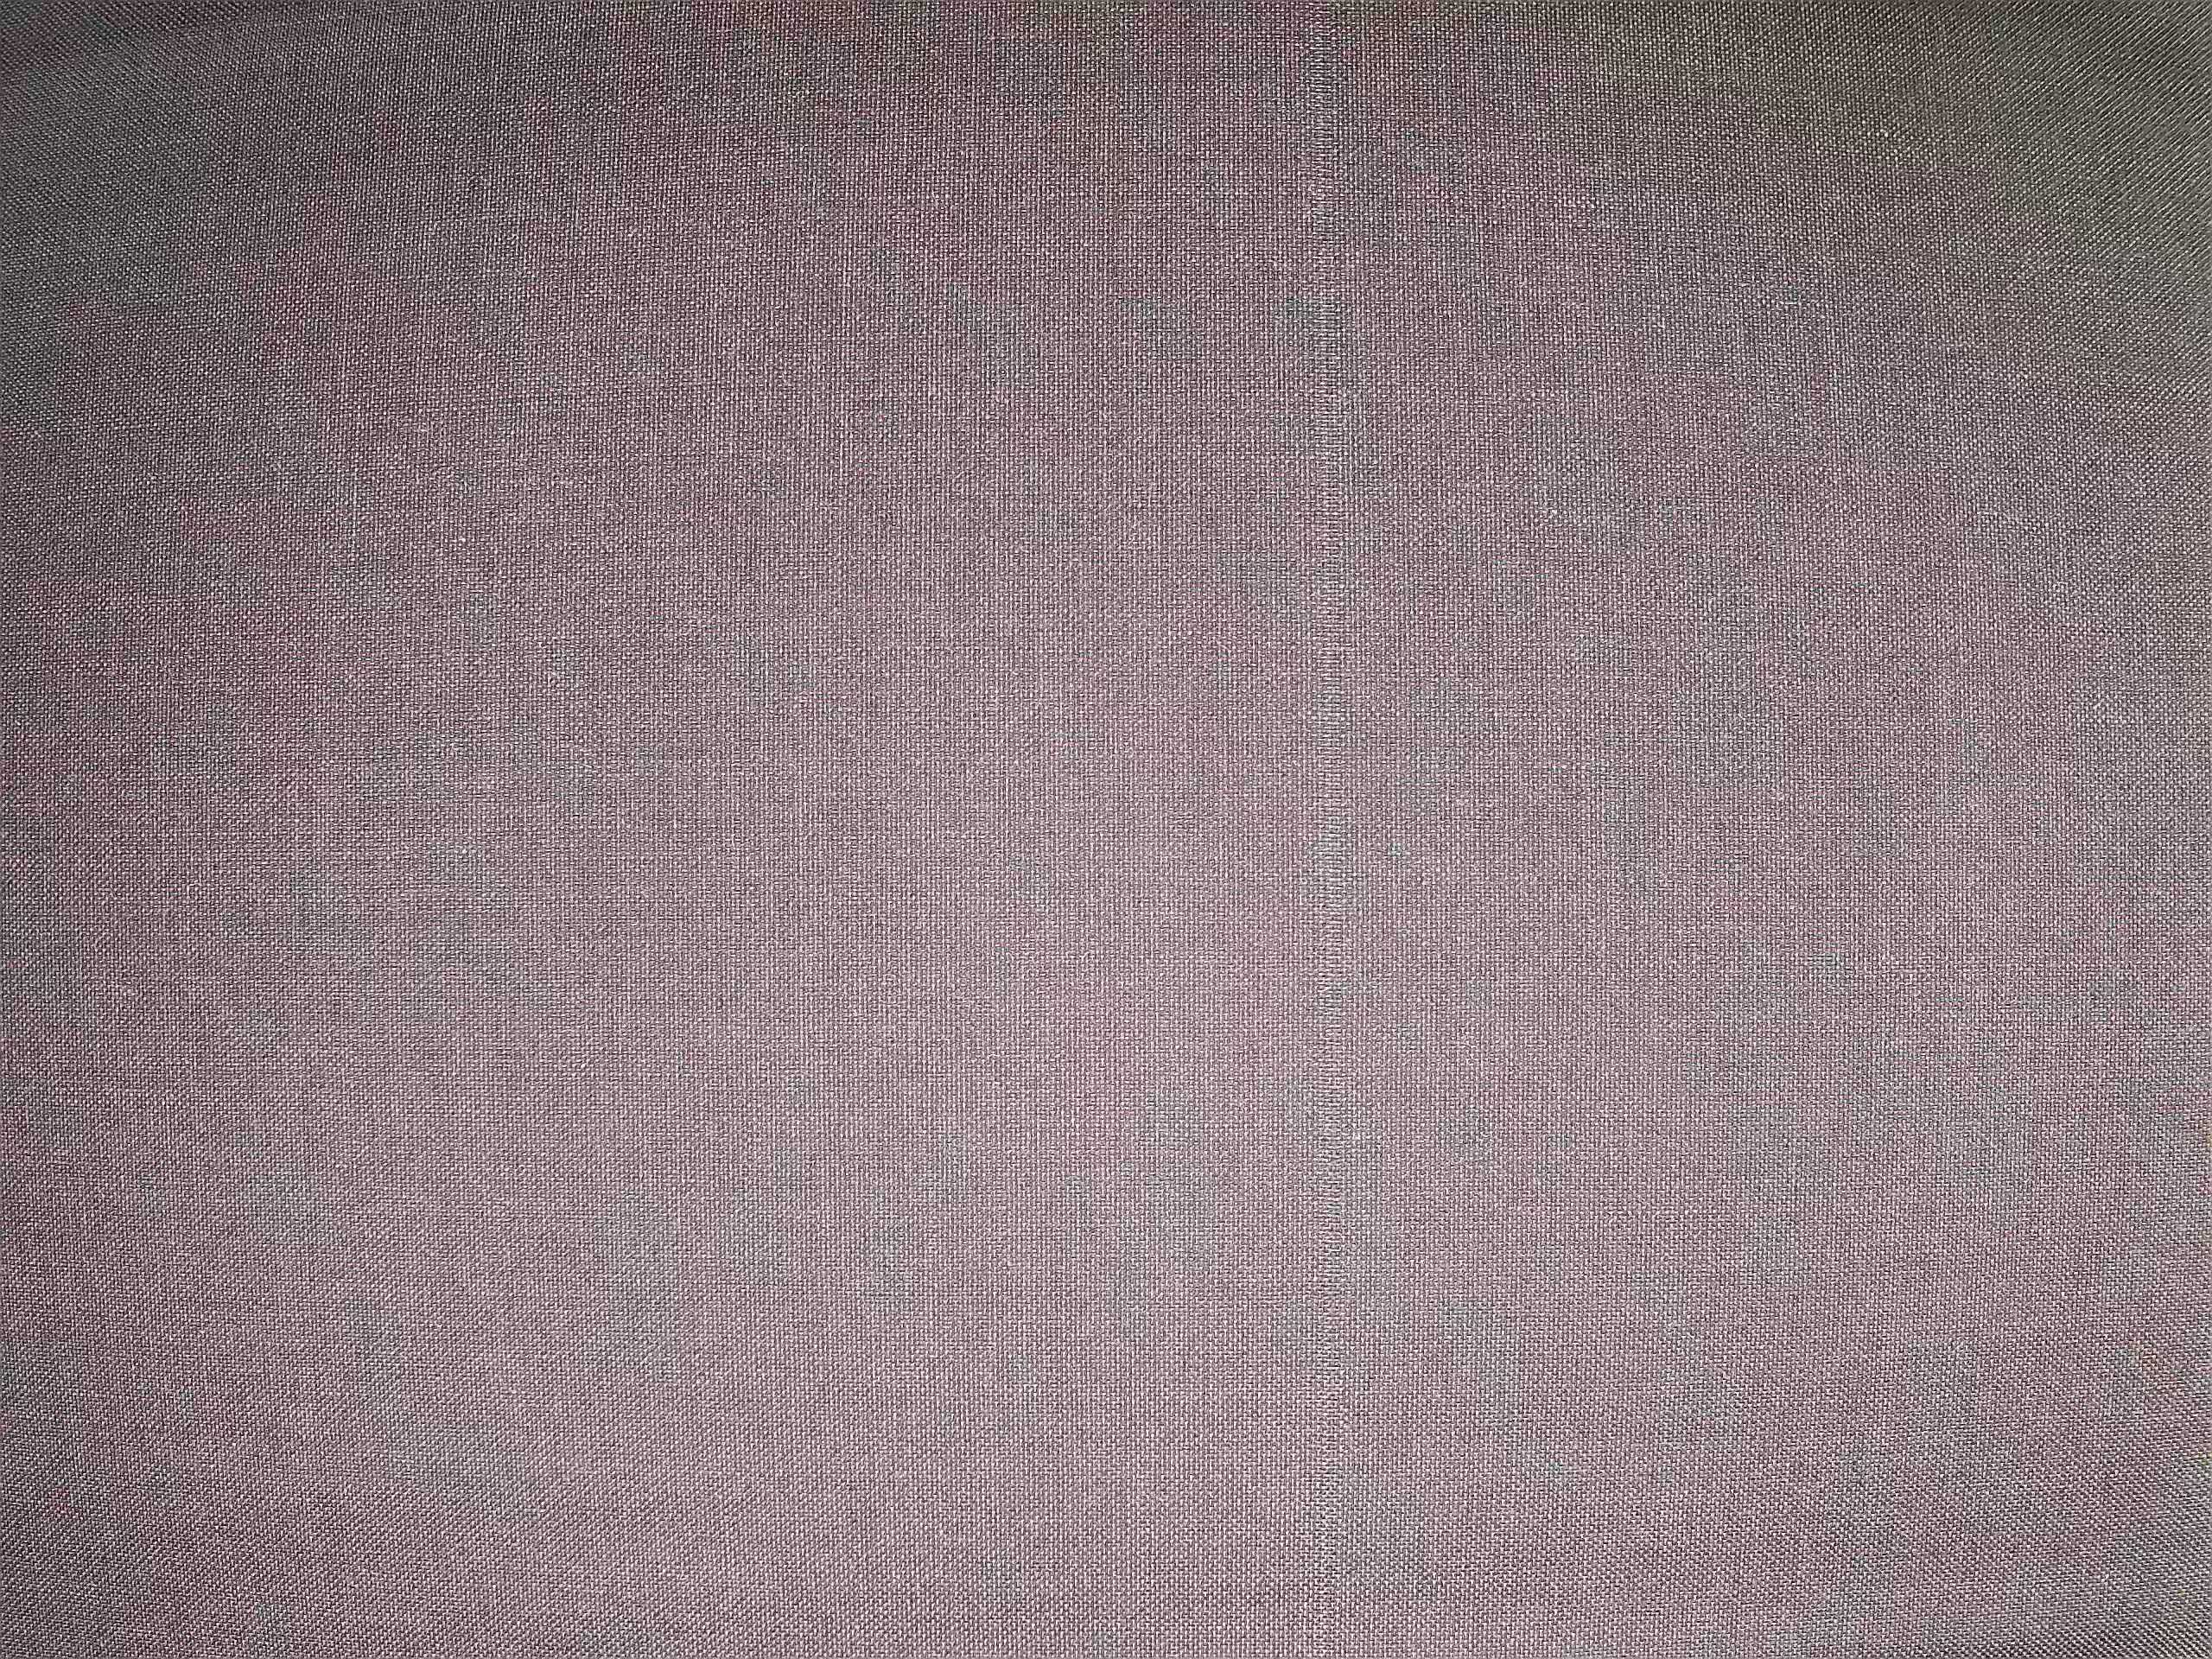lacking-warp: (1285, 14, 1371, 1650)
